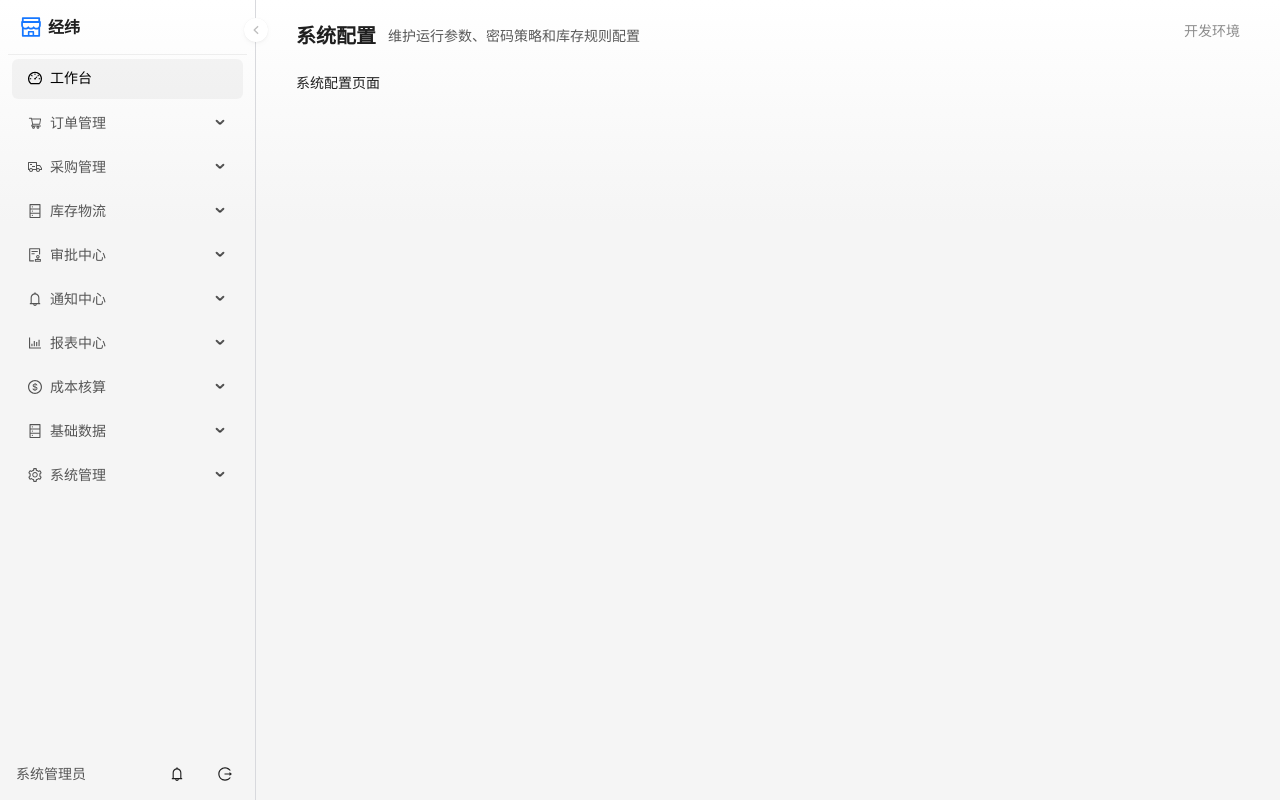
Test: DashboardLayout › shows the system config item from fallback when backend menu tree is empty
This screenshot has width=1280, height=800.
Click the menu item "系统管理": click(67, 474) [28,466,106,483]
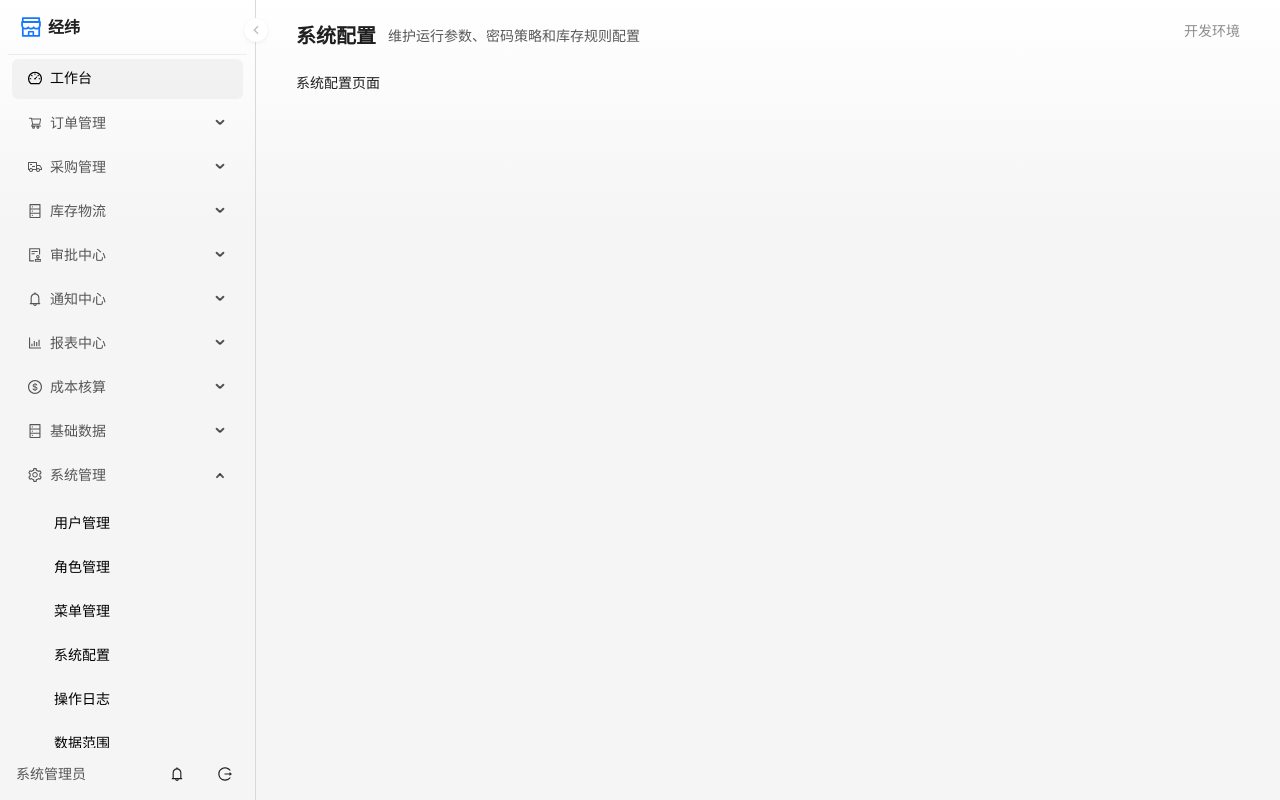
expect the text "系统配置页面" is shown: met, box [296,74,380,91]
expect the text "系统配置" is shown 2 times: met, box [54,646,110,663]; [296,20,376,52]
